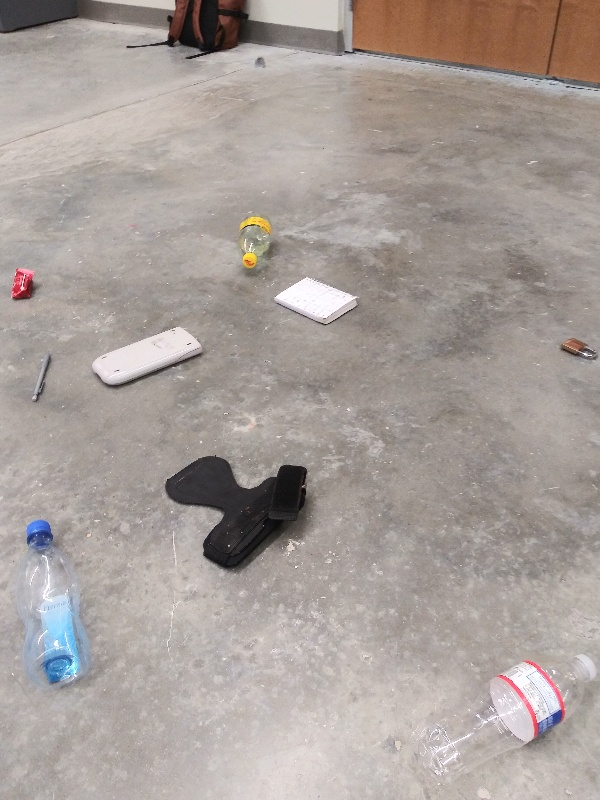bottle: (409, 648, 600, 782), (13, 517, 97, 689), (235, 209, 277, 273)
